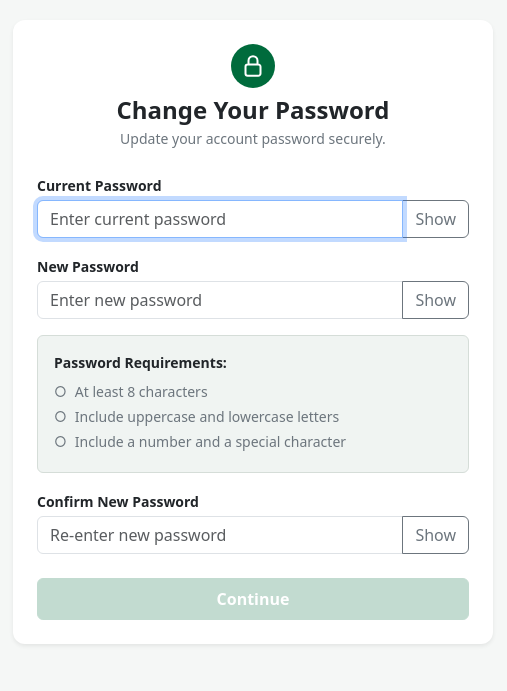
Test: Mandatory Password Change Screen Tests (Lab 3) › UI-10a: displays safe error banner when current password is wrong
Expected: the heading "Change Your Password" is shown, [116,93,389,126]
Type "WrongCurrentPass!" into the password field labelled "Current Password" at (220, 219), box [37,200,403,238]
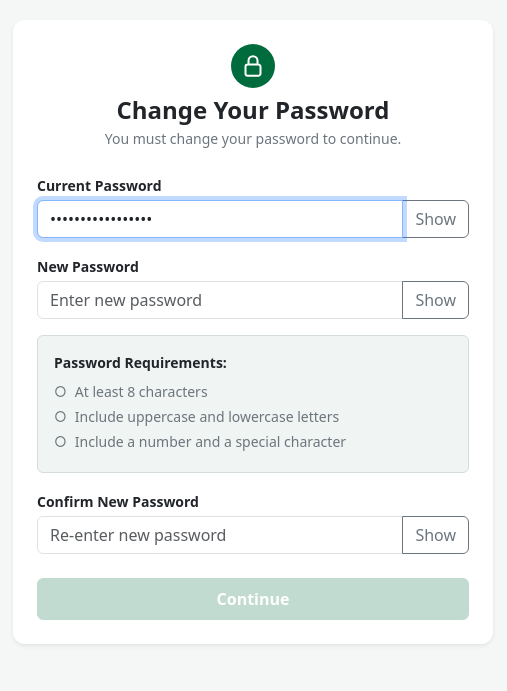
Type "NewSecurePassword123!" into the password field labelled "New Password" at (220, 300), box [37,281,403,319]
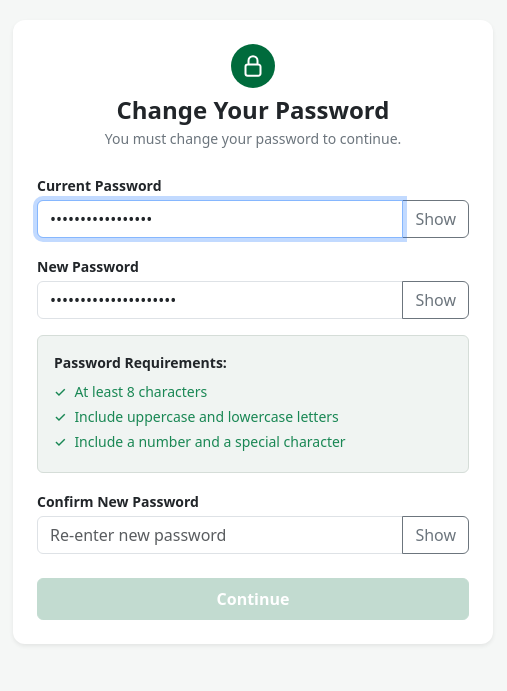
Type "NewSecurePassword123!" into the password field labelled "Confirm New Password" at (220, 535), box [37,516,403,554]
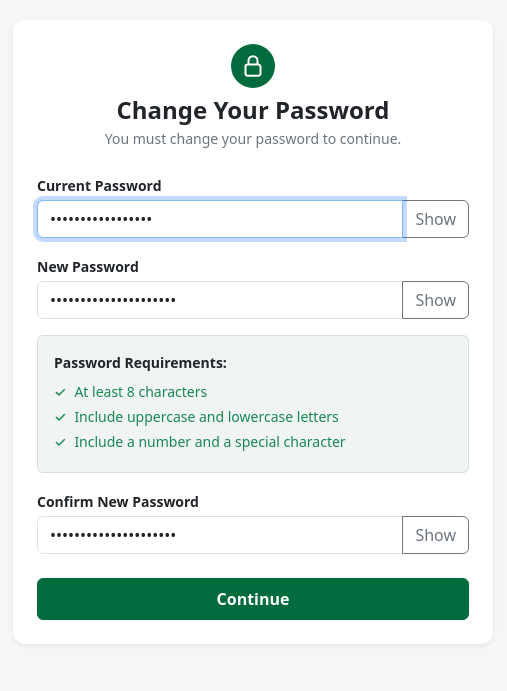
Click the button "Continue" at (253, 599), box [37,578,469,620]
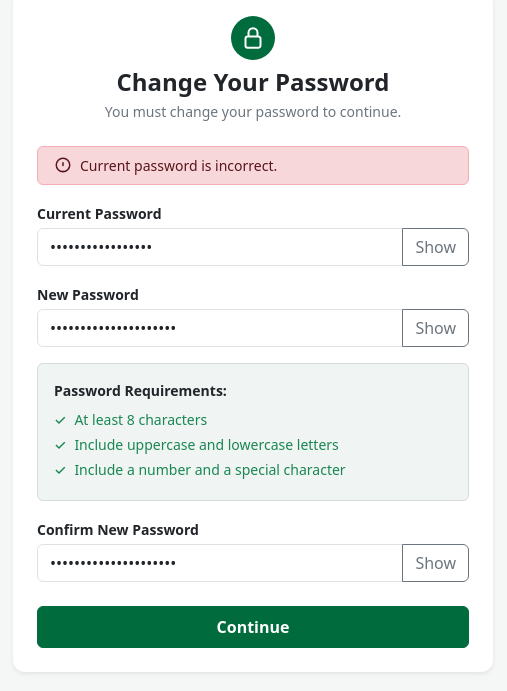
Result: the text "Current password is incorrect." is shown at [80,155,277,176]
